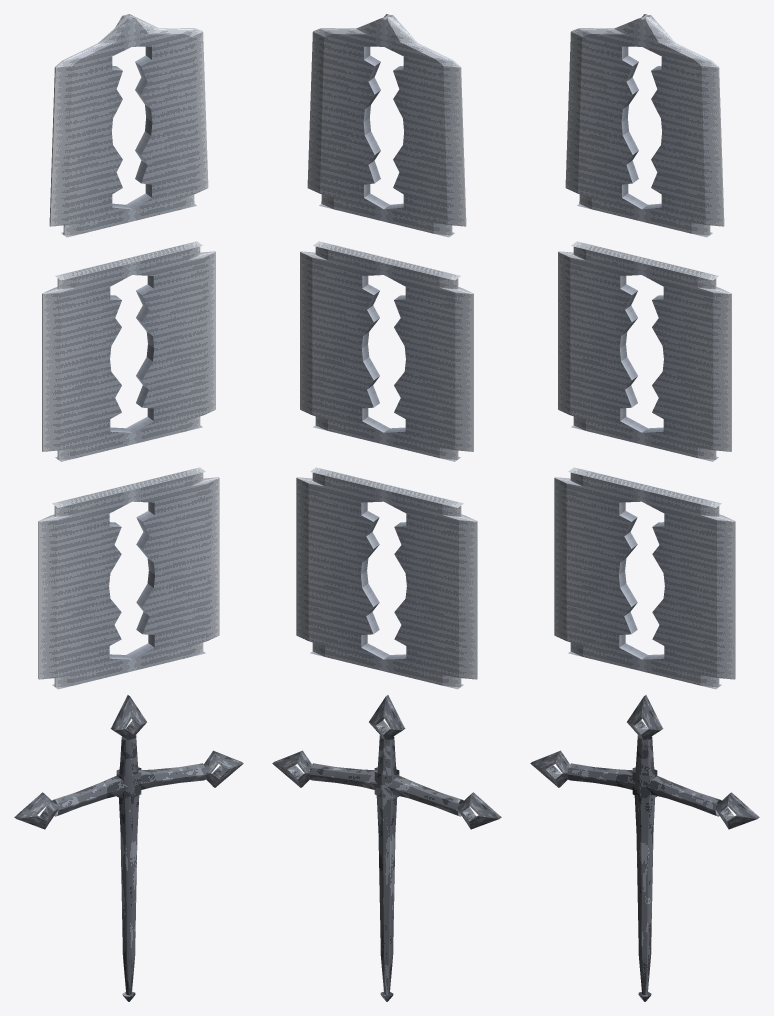
File: Cross_Razor_Greatsword.glb
3 views of the same model, side by side, from view 1: azimuth 30°, elevation 25°; view 2: azimuth 150°, elevation 25°; view 3: azimuth 330°, elevation 25° (orthographic).
Parts seen in each view (by area): view 1: Razor_01_Base, Razor_02_Mid, Razor_03_Tip, Cross_Hilt_Smooth; view 2: Razor_01_Base, Razor_02_Mid, Razor_03_Tip, Cross_Hilt_Smooth; view 3: Razor_01_Base, Razor_02_Mid, Razor_03_Tip, Cross_Hilt_Smooth.
Part boxes in pixels (x1,y1,x2,y2): Razor_01_Base: [38, 467, 219, 689]; Razor_02_Mid: [42, 241, 215, 461]; Razor_03_Tip: [49, 14, 208, 237]; Cross_Hilt_Smooth: [14, 695, 243, 1001]; Razor_01_Base: [296, 467, 477, 689]; Razor_02_Mid: [300, 241, 473, 461]; Razor_03_Tip: [307, 14, 466, 237]; Cross_Hilt_Smooth: [272, 695, 501, 1001]; Razor_01_Base: [554, 467, 735, 689]; Razor_02_Mid: [558, 241, 731, 461]; Razor_03_Tip: [565, 14, 724, 237]; Cross_Hilt_Smooth: [530, 695, 759, 1001].
Bounding box in the file's own units: 0.63 × 2.61 × 0.05.
Materials: 2 (2 with a texture image).
